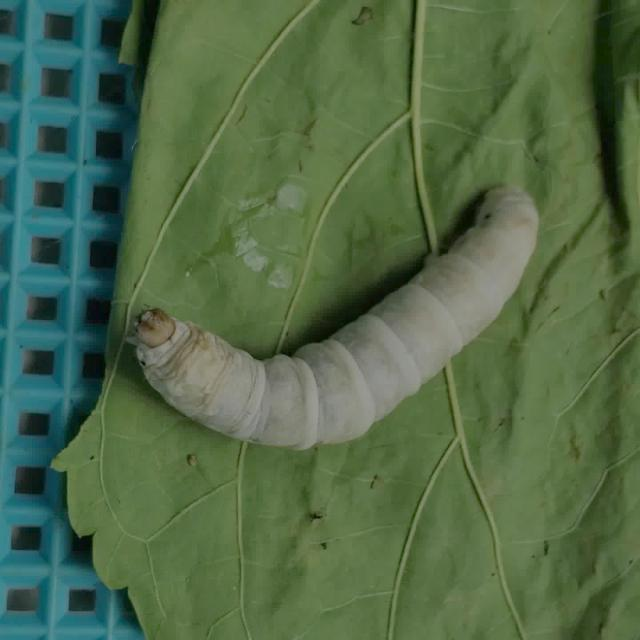Grasserie: (116, 173, 544, 471)
